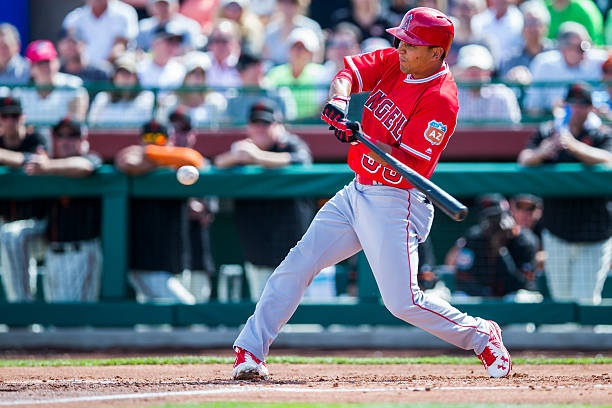bita: (327, 116, 462, 219)
